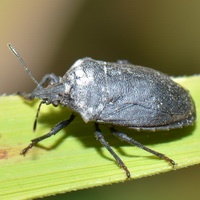insect: (8, 44, 195, 176)
